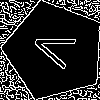V: (29, 26, 86, 74)
